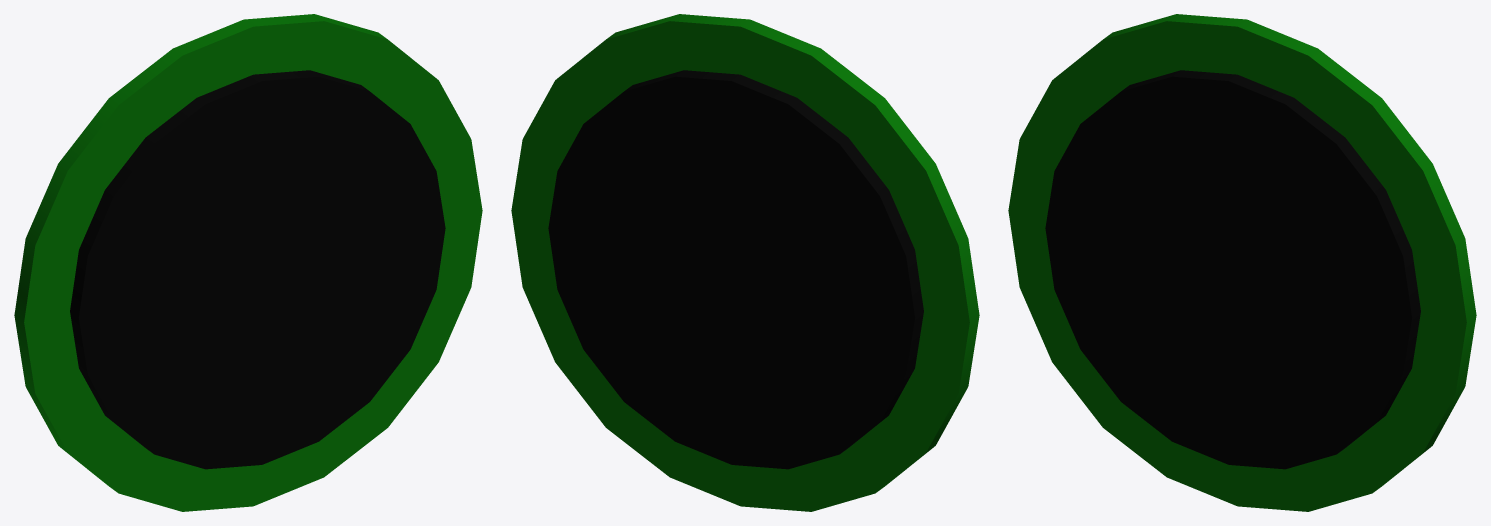
The model's file is BlackHole.fbx.
The picture shows the model from 3 angles, left to right: view 1: azimuth 30°, elevation 25°; view 2: azimuth 150°, elevation 25°; view 3: azimuth 330°, elevation 25°; orthographic projection.
Visible parts, largest first — view 1: Black, Frame; view 2: Black, Frame; view 3: Black, Frame.
Boxes of the visible parts, x1,y1,x2,y2 form: Black: [70, 70, 445, 469]; Frame: [14, 14, 482, 511]; Black: [548, 70, 923, 469]; Frame: [511, 14, 979, 511]; Black: [1045, 70, 1420, 469]; Frame: [1008, 14, 1476, 511].
Bounding box in the file's own units: 1.5 × 1.5 × 0.1553.
